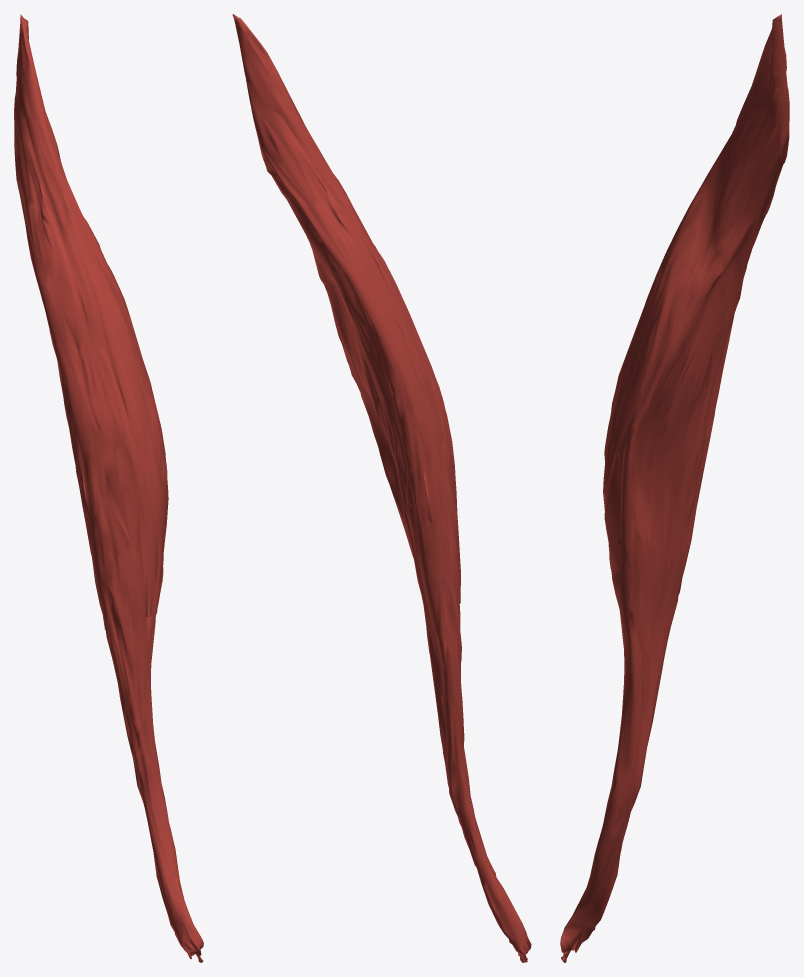
The model's file is musculos-brachioradialis-muscle-r.glb.
3 views of the same model, side by side, from view 1: azimuth 90°, elevation 25°; view 2: azimuth 150°, elevation 25°; view 3: azimuth 270°, elevation 25° (orthographic). The views are drawn at different scales.
Visible parts, largest first — view 1: Brachioradialis muscle.r; view 2: Brachioradialis muscle.r; view 3: Brachioradialis muscle.r.
Part boxes in pixels (x1,y1,x2,y2): Brachioradialis muscle.r: (14,14,203,962); Brachioradialis muscle.r: (232,14,531,962); Brachioradialis muscle.r: (560,14,789,962).
Bounding box in the file's own units: 0.0748 × 0.3491 × 0.0693.
